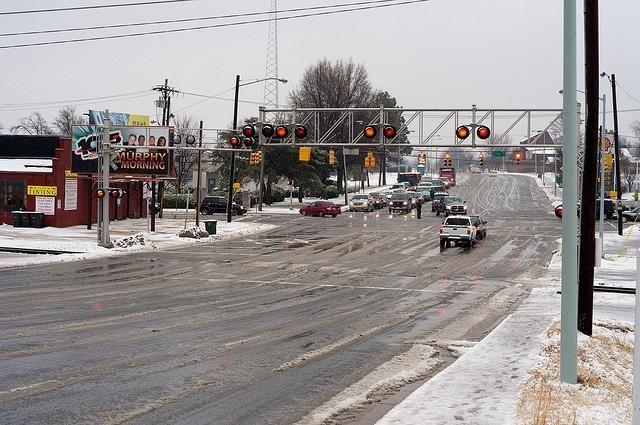car: (200, 195, 248, 216), (298, 200, 342, 217), (434, 196, 468, 217), (388, 192, 412, 214), (350, 193, 376, 212), (470, 214, 488, 240), (622, 207, 640, 223), (416, 187, 432, 201), (406, 192, 419, 208), (438, 176, 451, 190), (488, 170, 497, 178), (392, 184, 406, 188)
truck: (438, 214, 476, 252), (440, 168, 457, 186)
